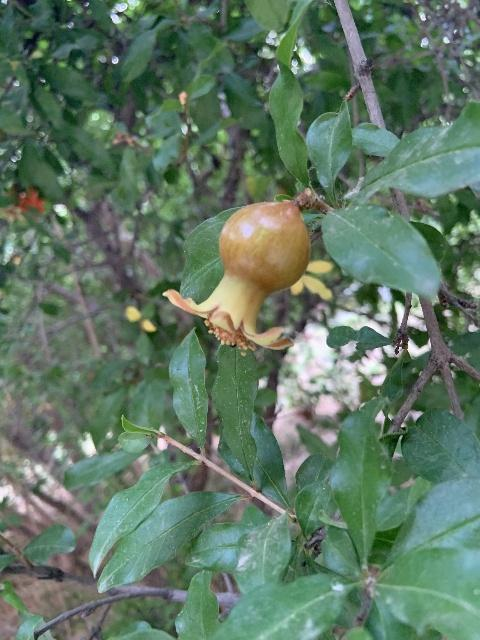early-fruit: (163, 200, 310, 355)
